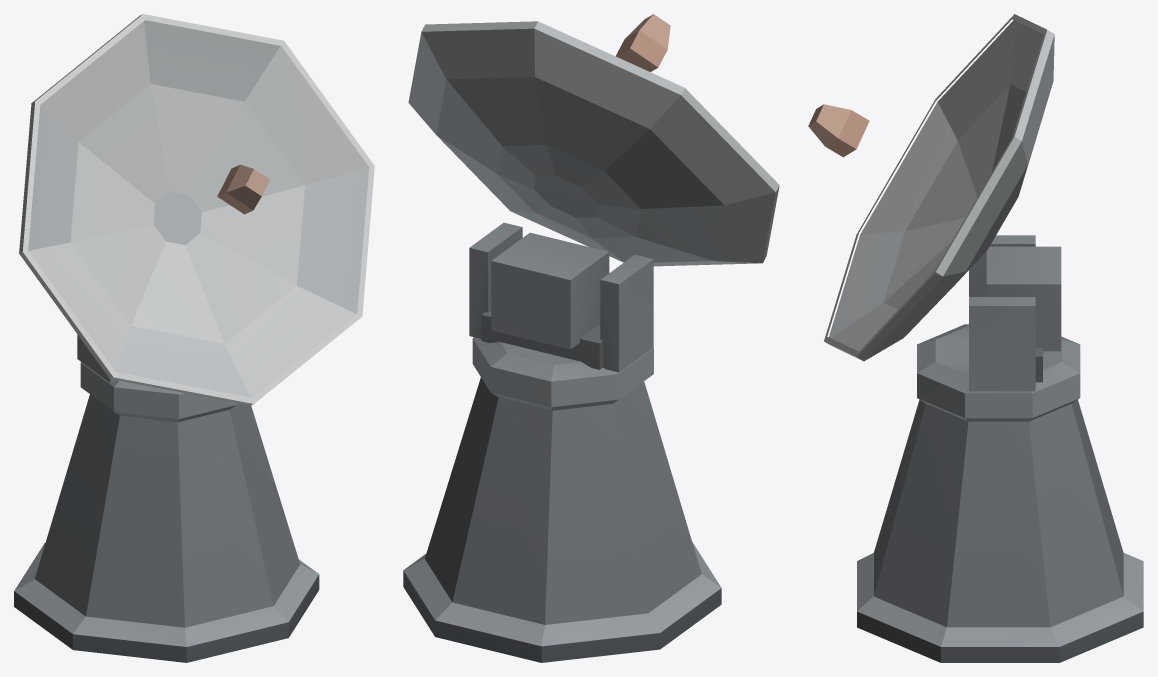
File: dish.lod2.glb
3 renders of one model, left to right at view 1: azimuth 30°, elevation 25°; view 2: azimuth 150°, elevation 25°; view 3: azimuth 270°, elevation 25°, orthographic. The views are drawn at different scales.
Bounding box in the file's own units: 5.1 × 7.85 × 4.17.
